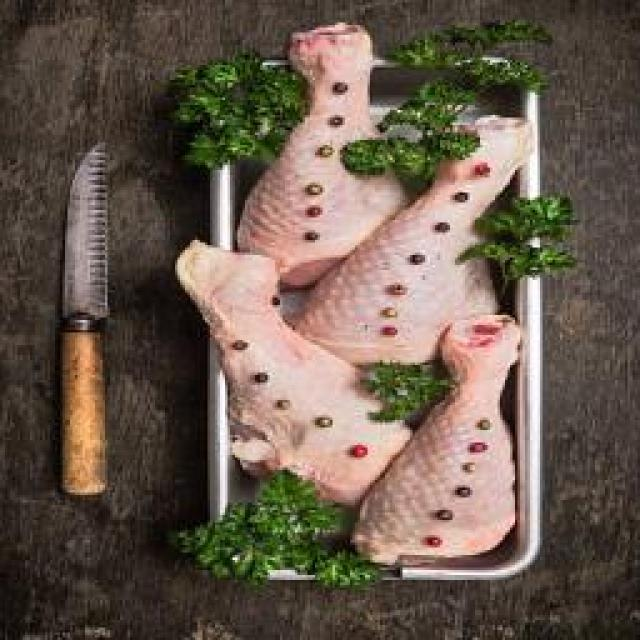knife: (51, 135, 110, 506)
